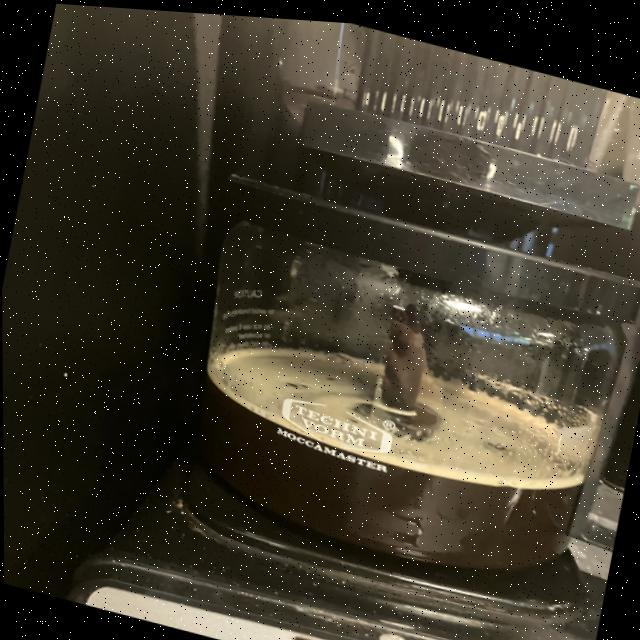coffee: (157, 144, 640, 607)
